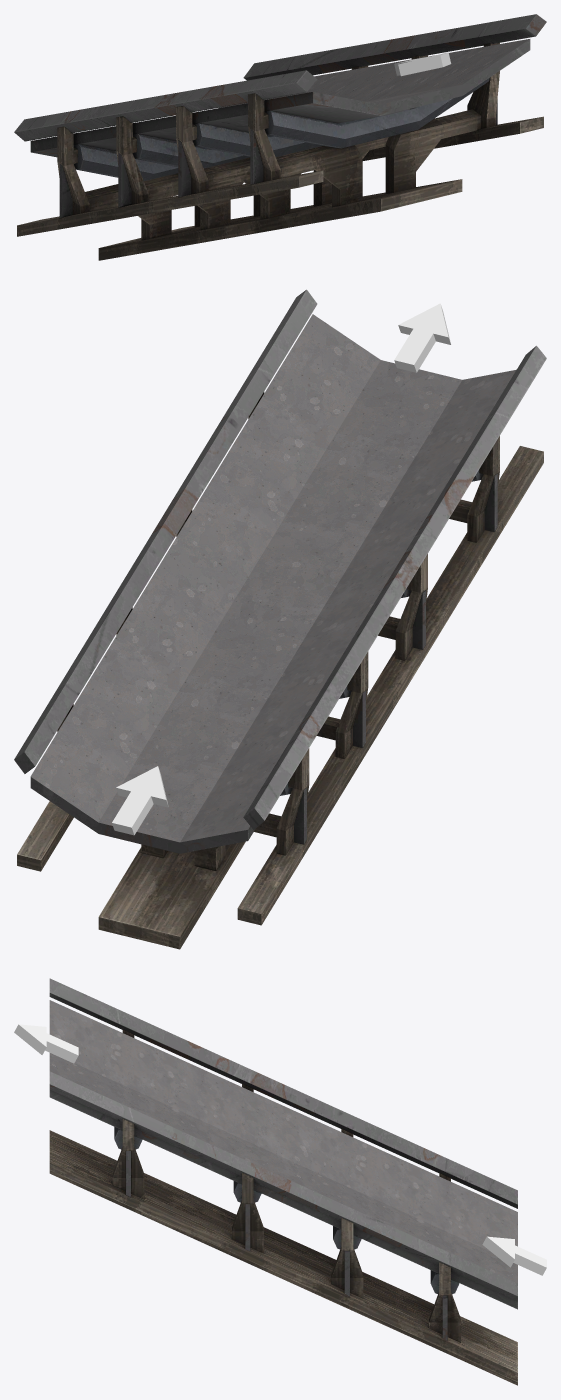
The model's file is ConveyorUp.glb.
The picture shows the model from 3 angles, top to bottom: view 1: azimuth 30°, elevation 25°; view 2: azimuth 150°, elevation 25°; view 3: azimuth 270°, elevation 25°; orthographic projection. The views are drawn at different scales.
Visible parts, largest first — view 1: ConveyorUp, ghostarrow; view 2: ConveyorUp, ghostarrow (1), ghostarrow; view 3: ConveyorUp, ghostarrow, ghostarrow (1).
Boxes of the visible parts, <box> form: ConveyorUp: <box>14,14,546,260</box>; ghostarrow: <box>394,52,451,76</box>; ConveyorUp: <box>14,289,546,949</box>; ghostarrow (1): <box>112,766,168,835</box>; ghostarrow: <box>394,303,450,372</box>; ConveyorUp: <box>49,978,517,1385</box>; ghostarrow: <box>14,1024,78,1063</box>; ghostarrow (1): <box>482,1236,546,1275</box>.
Bounding box in the file's own units: 1.02 × 1.63 × 2.28.
Materials: 3 (2 with a texture image).
